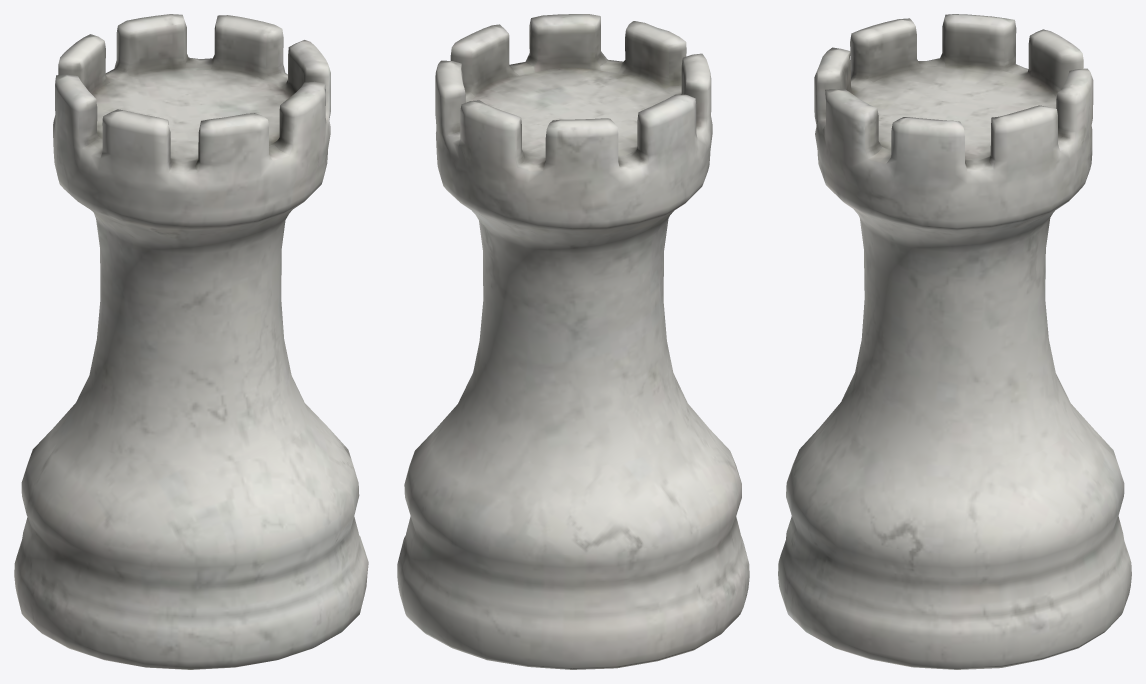
The picture shows the model from 3 angles, left to right: view 1: azimuth 30°, elevation 25°; view 2: azimuth 150°, elevation 25°; view 3: azimuth 270°, elevation 25°; orthographic projection.
Visible parts, largest first — view 1: piece_rook_white_01; view 2: piece_rook_white_01; view 3: piece_rook_white_01.
Part boxes in pixels (x1=…): piece_rook_white_01: x1=14, y1=14, x2=368, y2=669; piece_rook_white_01: x1=397, y1=14, x2=749, y2=669; piece_rook_white_01: x1=778, y1=14, x2=1131, y2=669.
Size of the model in its own units: 0.0368 by 0.0606 by 0.0367.
Materials: 1 (1 with a texture image).
